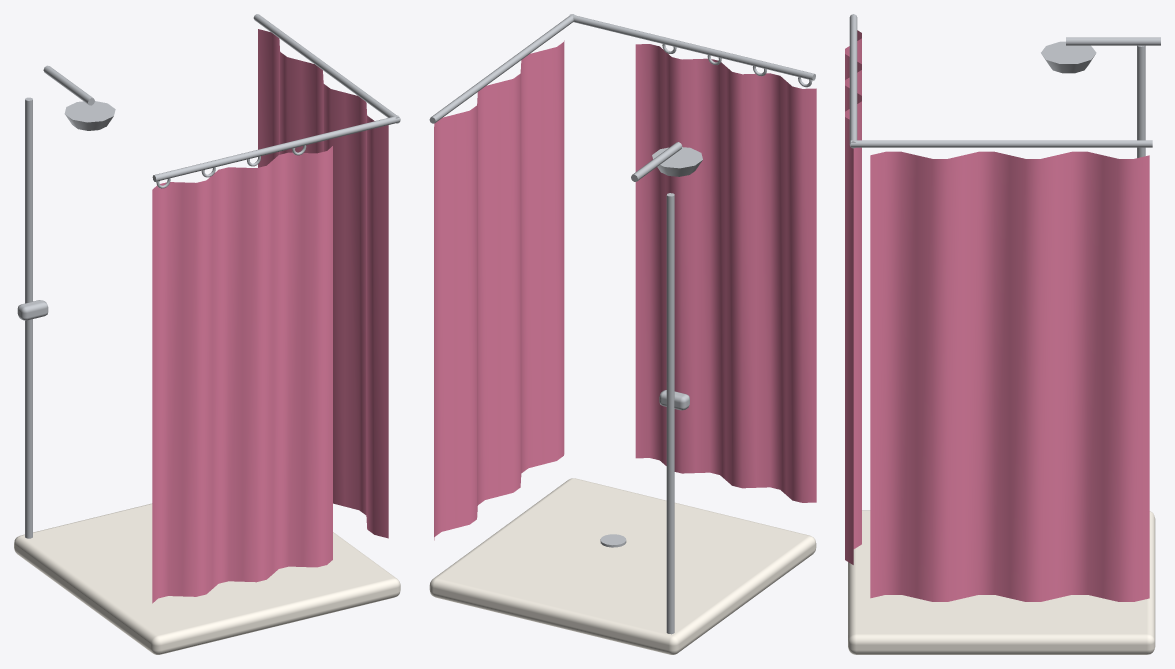
The model's file is shower-curtain.glb.
3 views of the same model, side by side, from view 1: azimuth 30°, elevation 25°; view 2: azimuth 150°, elevation 25°; view 3: azimuth 270°, elevation 25° (orthographic). The views are drawn at different scales.
Size of the model in its own units: 1.12 by 2.03 by 1.13.
